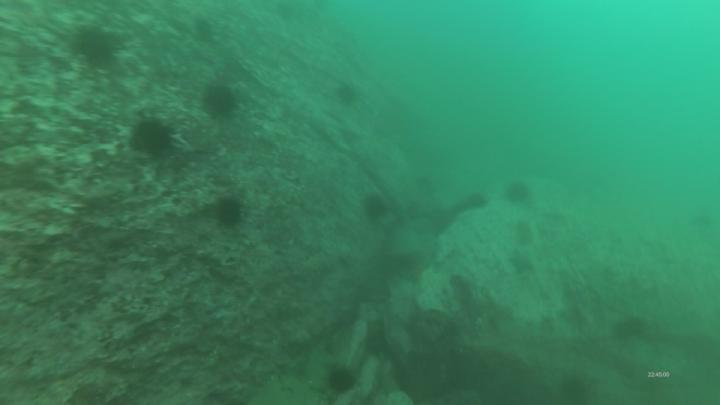echinus: (68, 22, 127, 72), (127, 115, 177, 164), (202, 76, 242, 126), (321, 363, 363, 399), (215, 194, 250, 233), (358, 190, 391, 227), (612, 314, 649, 344), (560, 374, 593, 405), (333, 80, 364, 110), (504, 180, 534, 209)
starfish: (507, 247, 537, 279)
